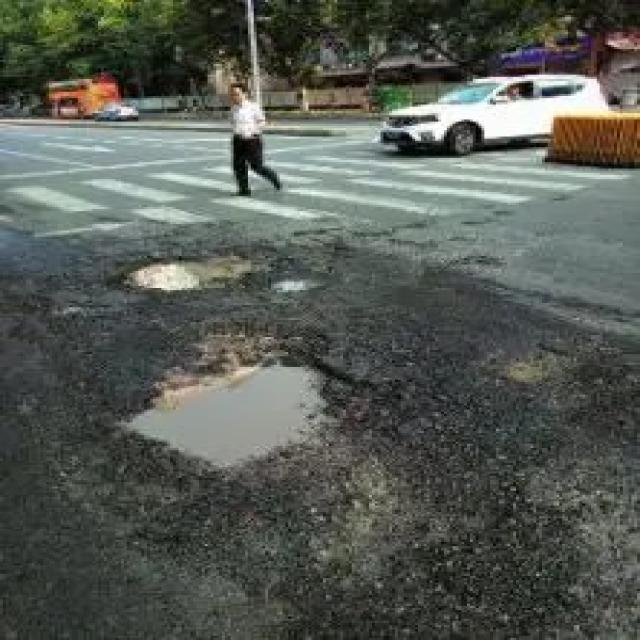Pothole: (110, 331, 352, 474), (95, 250, 254, 292), (482, 341, 562, 382), (268, 273, 317, 297)
